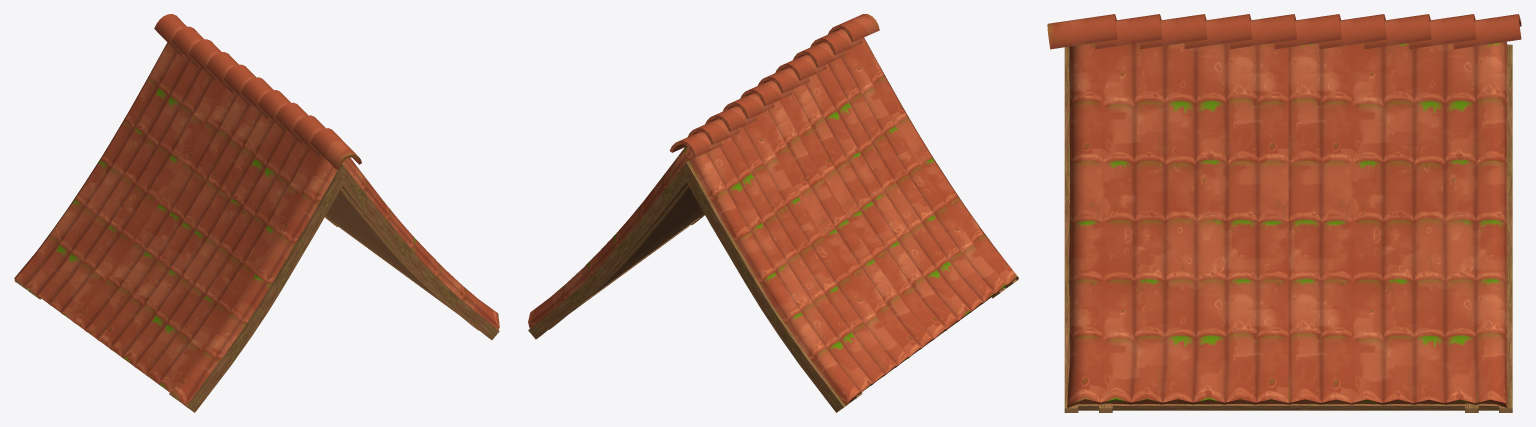
Rendered from Roof_RoundTiles_6x6.gltf.
3 views of the same model, side by side, from view 1: azimuth 30°, elevation 25°; view 2: azimuth 150°, elevation 25°; view 3: azimuth 270°, elevation 25° (orthographic). The views are drawn at different scales.
Parts seen in each view (by area): view 1: Roof_RoundTiles_6x6; view 2: Roof_RoundTiles_6x6; view 3: Roof_RoundTiles_6x6.
Boxes of the visible parts, bbox=[...] form: Roof_RoundTiles_6x6: bbox=[14, 14, 499, 412]; Roof_RoundTiles_6x6: bbox=[528, 14, 1018, 412]; Roof_RoundTiles_6x6: bbox=[1047, 14, 1521, 412].
Bounding box in the file's own units: 8.25 × 5.67 × 8.03.
2 materials, 2 textured.
